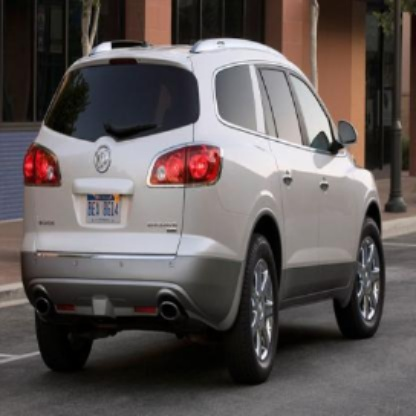Vehicle: (19, 36, 388, 382)
